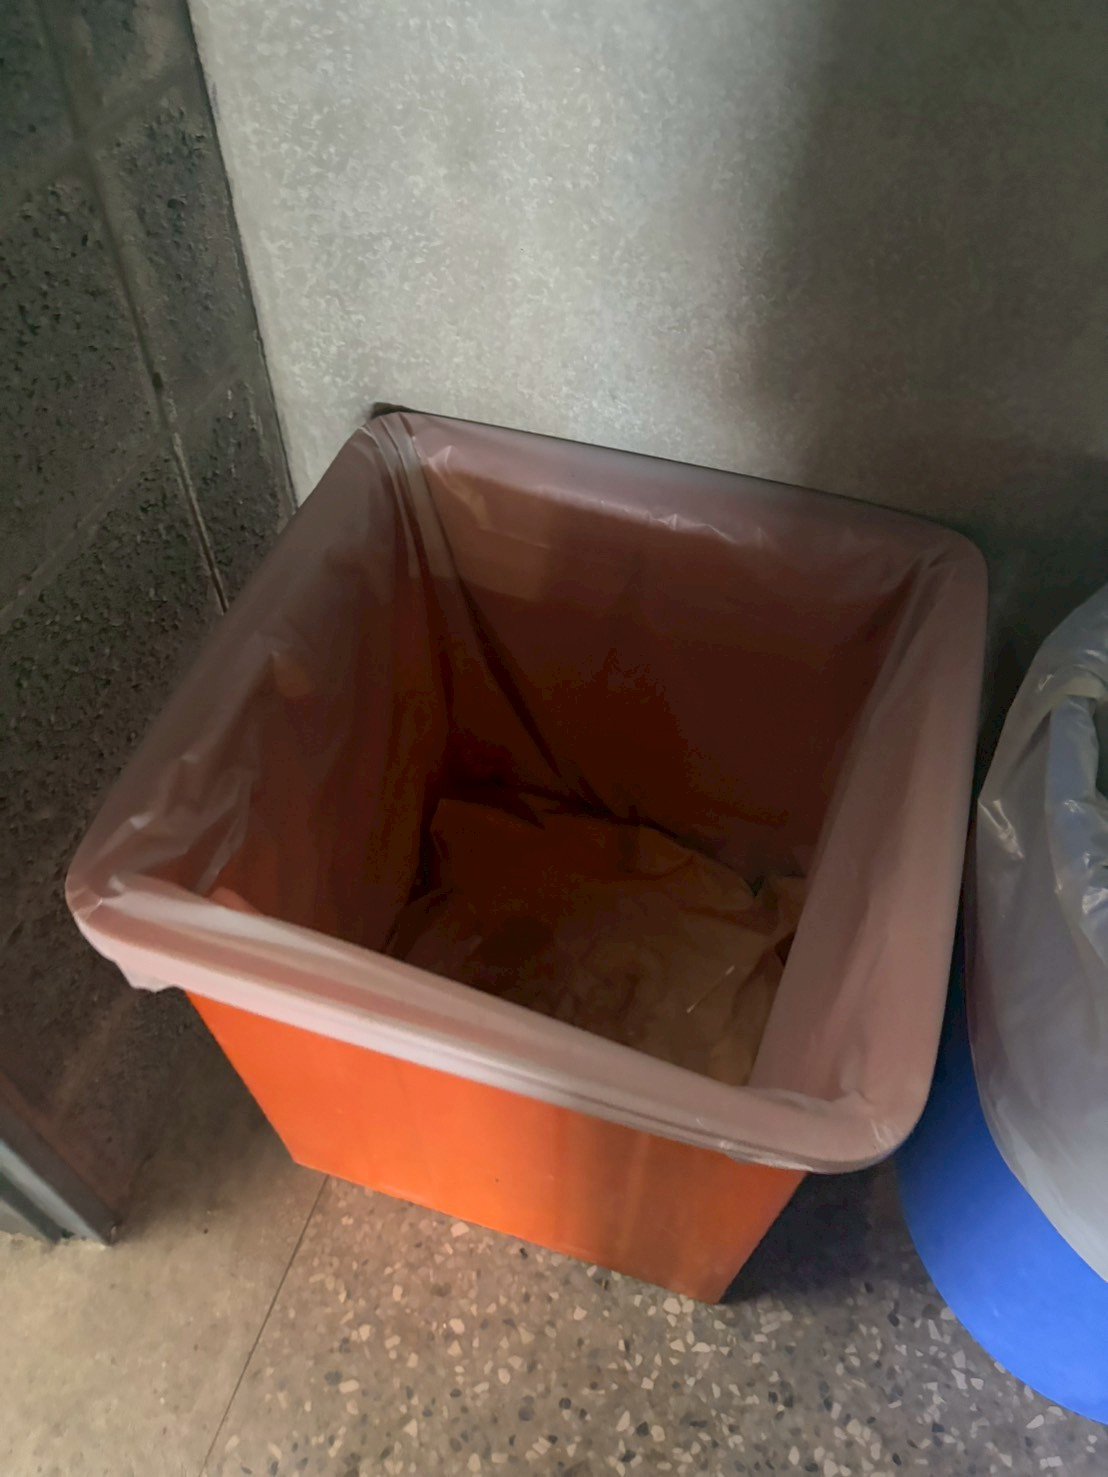normal_bin: (79, 381, 1022, 1349)
